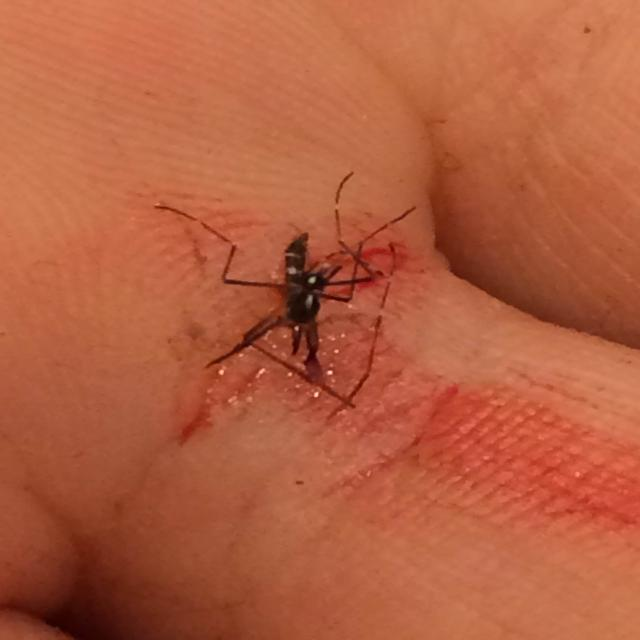albopictus: (145, 160, 425, 405)
